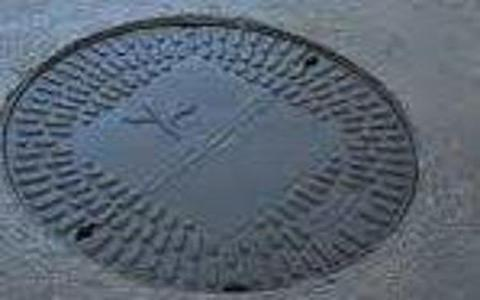proper manhole: (1, 13, 420, 293)
